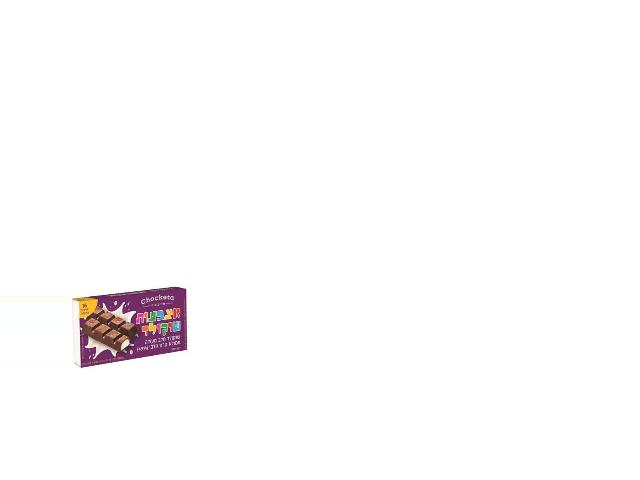chocolate: (70, 286, 195, 362)
